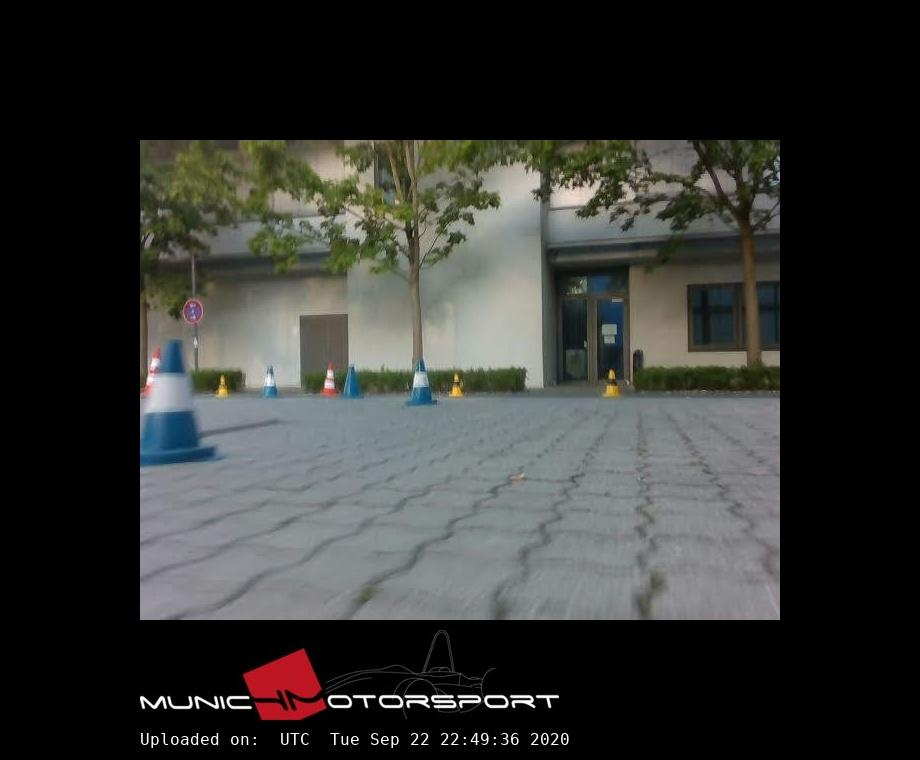blue_cone: (140, 341, 222, 467), (406, 362, 437, 406), (341, 365, 364, 398), (260, 366, 281, 399)
large_orange_cone: (143, 348, 160, 397), (322, 365, 337, 396)
yellow_cone: (604, 369, 620, 396), (449, 373, 465, 396), (216, 374, 229, 397)
